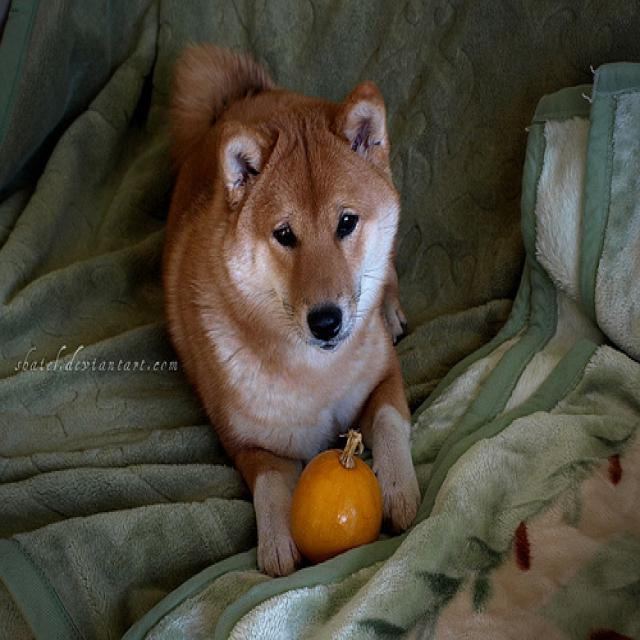dog-shiba_inu: (156, 34, 426, 584)
